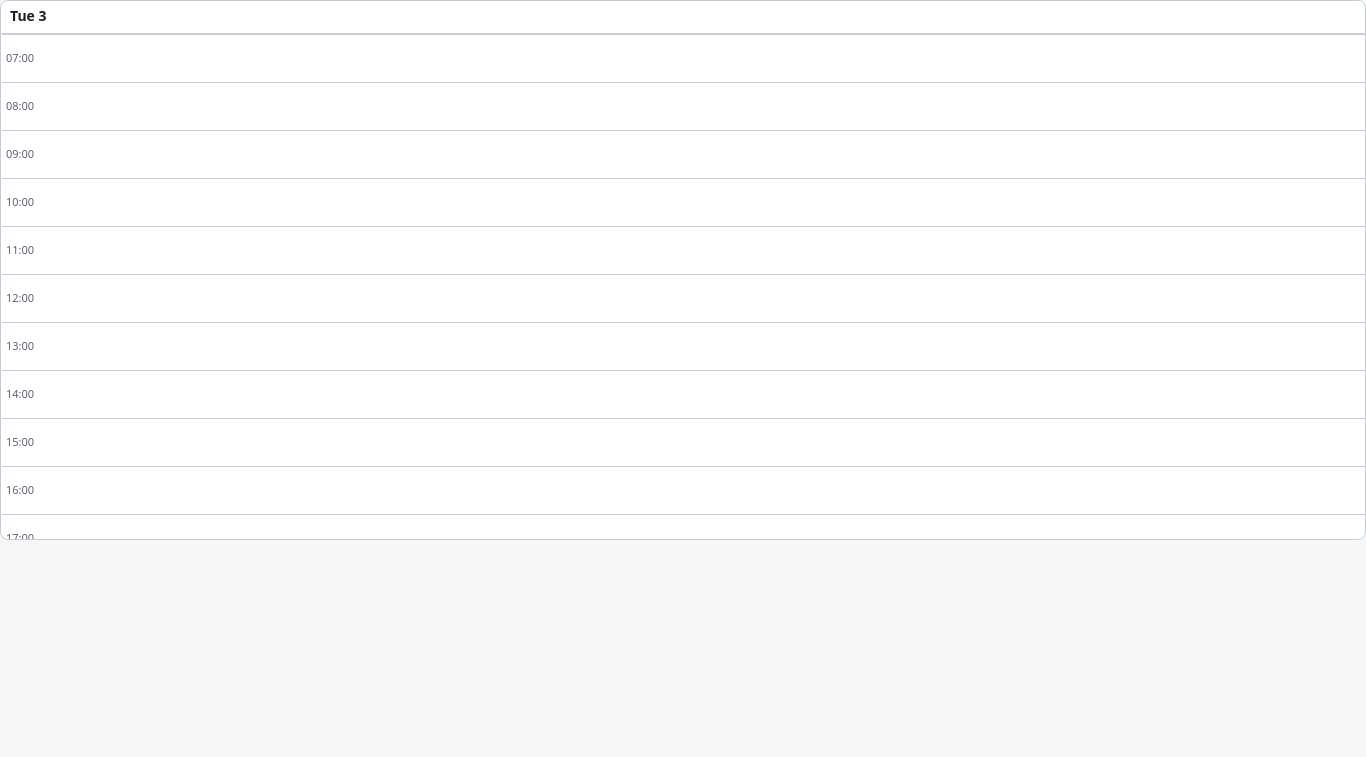
Test: Calendar: making an event › shows the new event at once and sends it to the server
(page scrolled)
Click the button "14:00" at (20,394), box [2,370,1365,418]
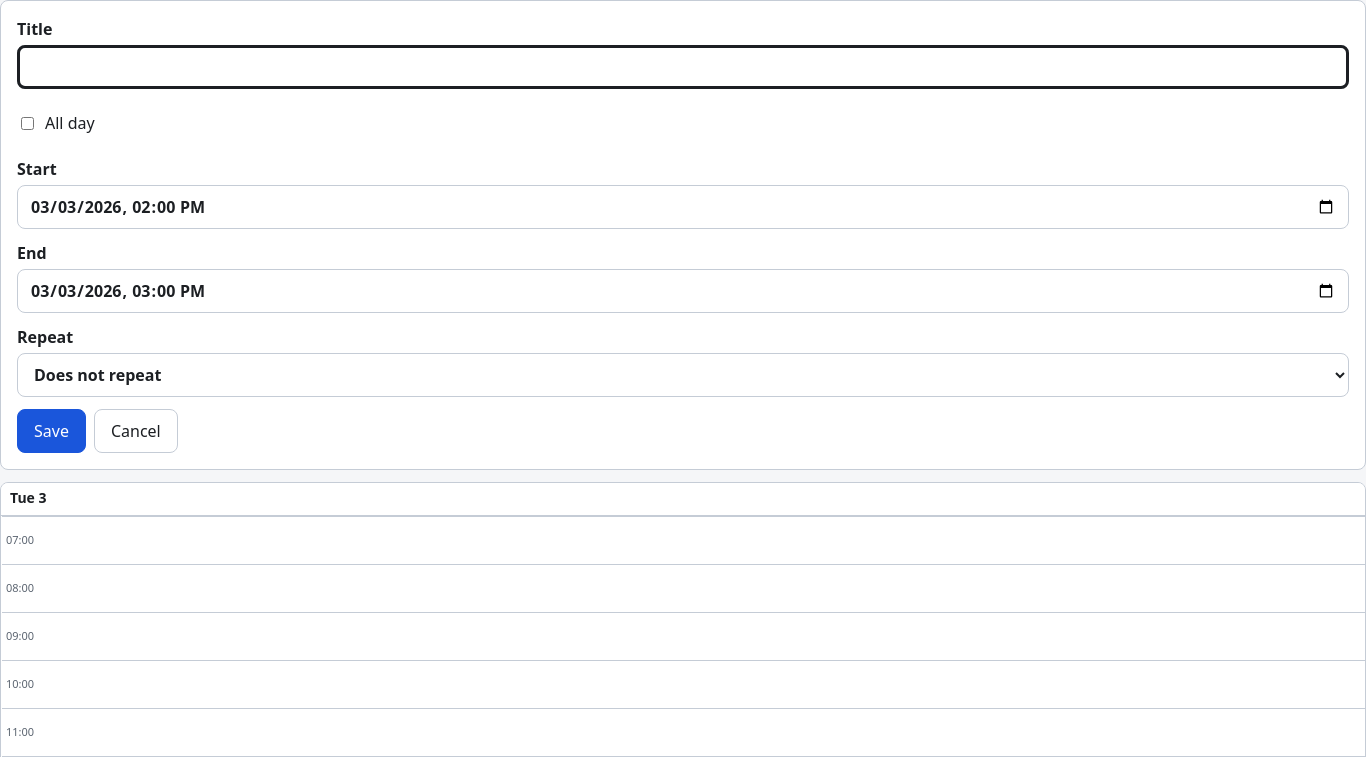
Type "  Roadmap  " into the field labelled "Title" at (683,67), box [17,45,1349,89]
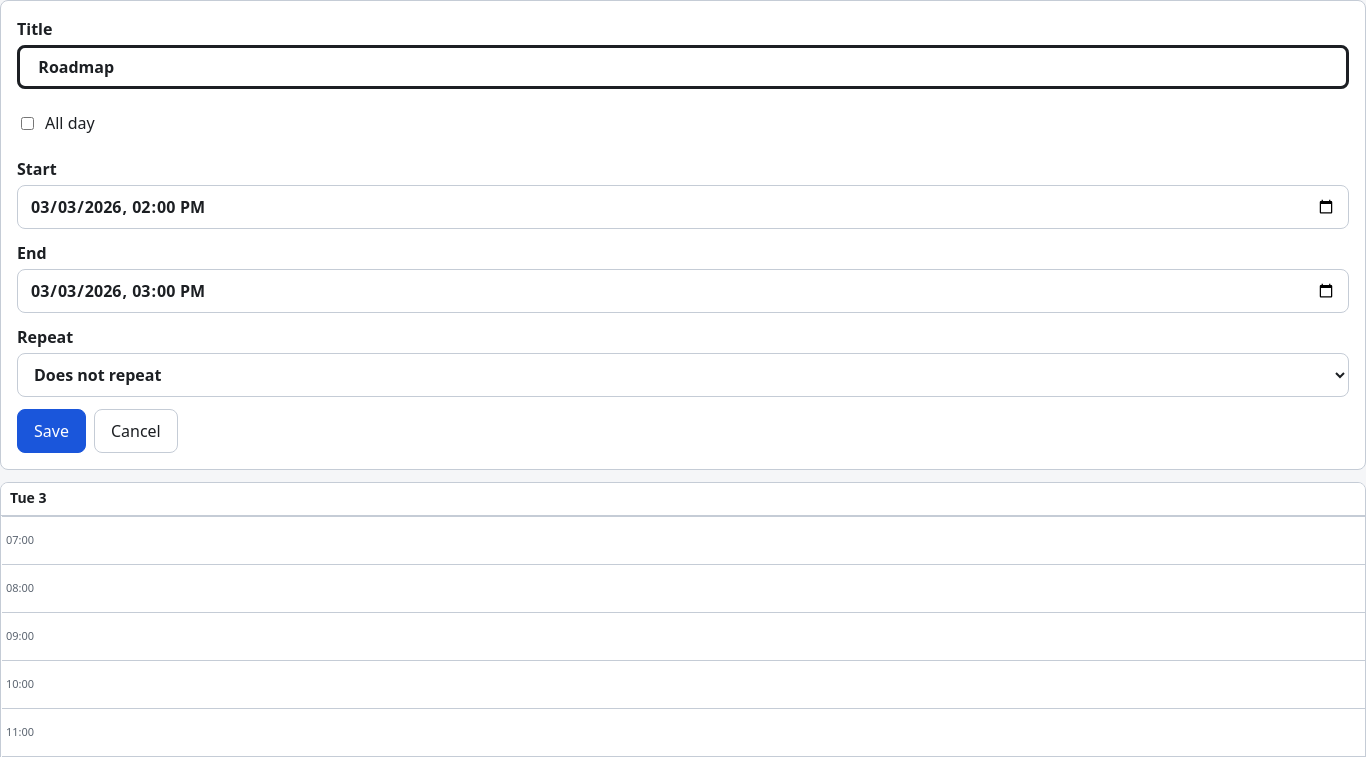
Click the button "Save" at (51,431), box [17,409,86,453]
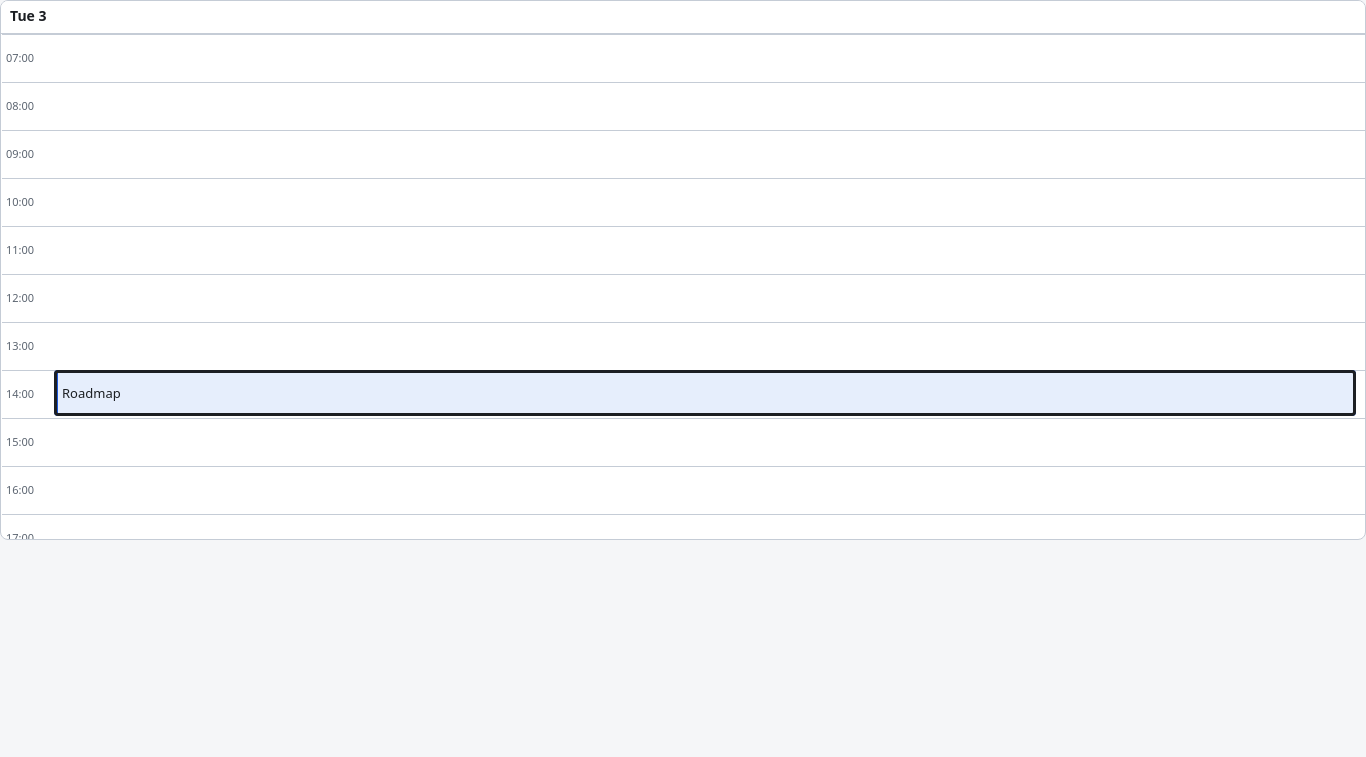
Now the form is gone
